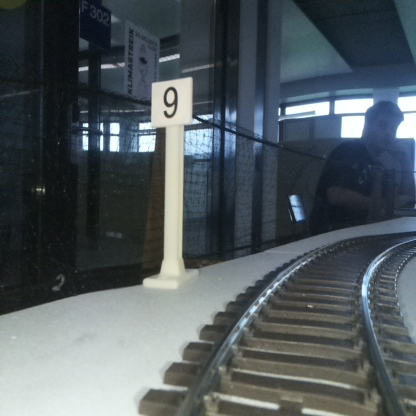white-info-9: (151, 77, 192, 284)
